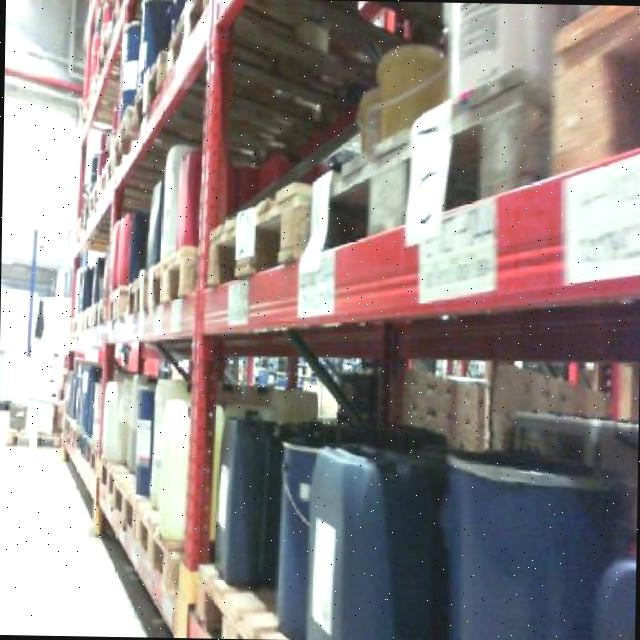pallet: (301, 49, 561, 264), (199, 176, 319, 291), (128, 492, 186, 611), (142, 241, 202, 309), (96, 459, 139, 547), (116, 267, 151, 320), (0, 428, 63, 454)
